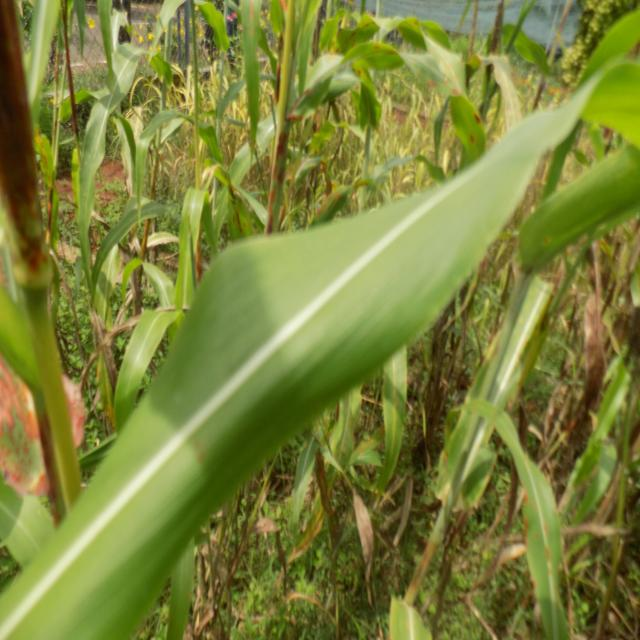millet_healthy: (0, 86, 588, 640), (82, 43, 142, 297), (115, 306, 179, 434), (176, 182, 206, 320), (382, 346, 408, 492)
millet_rust: (458, 396, 572, 640)
